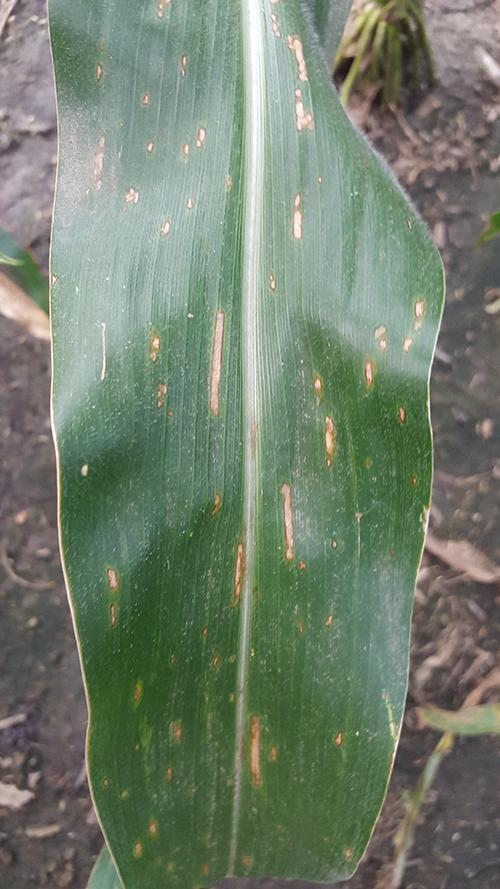Corn_Blight: (77, 563, 194, 884), (66, 32, 215, 237), (341, 282, 456, 473), (256, 4, 330, 264), (195, 278, 268, 455), (215, 689, 295, 836), (197, 483, 250, 634), (270, 475, 327, 599), (128, 300, 169, 436), (296, 362, 339, 466)
